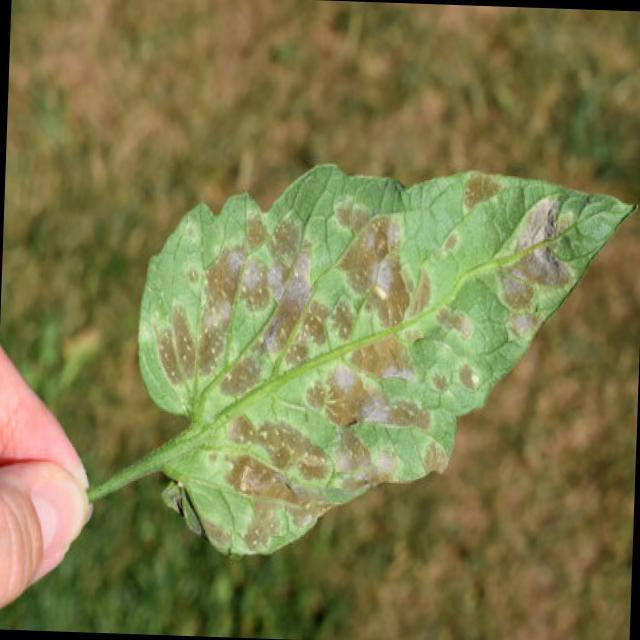Mosaic Virus: (130, 156, 617, 562)
